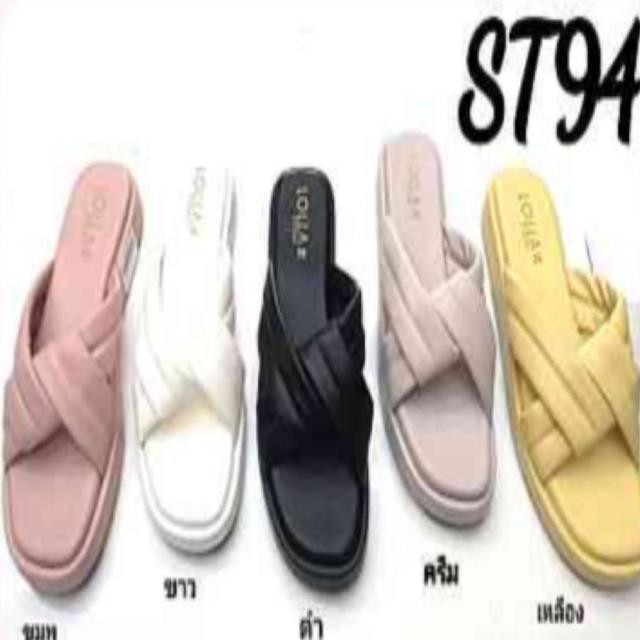black: (256, 159, 376, 592)
cream: (376, 132, 499, 514)
pink: (2, 141, 140, 598)
white: (136, 153, 247, 556)
yellow: (483, 167, 640, 576)
